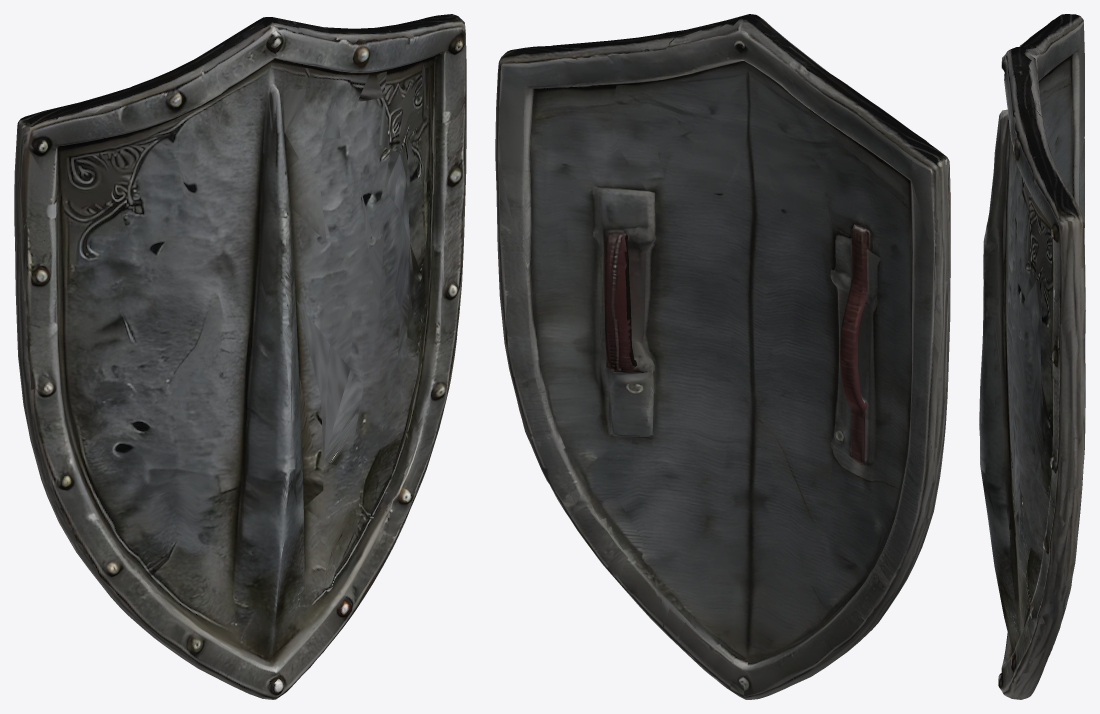
Rendered from gothic_shield.glb.
3 renders of one model, left to right at view 1: azimuth 30°, elevation 25°; view 2: azimuth 150°, elevation 25°; view 3: azimuth 270°, elevation 25°, orthographic. The views are drawn at different scales.
Visible parts, largest first — view 1: GothicShield; view 2: GothicShield; view 3: GothicShield.
Boxes of the visible parts, box(x1,y1,x2,y2) form: GothicShield: box(14, 14, 466, 699); GothicShield: box(495, 14, 950, 699); GothicShield: box(979, 14, 1085, 699).
Size of the model in its own units: 0.5927 by 0.86 by 0.1278.
1 material, 1 textured.
